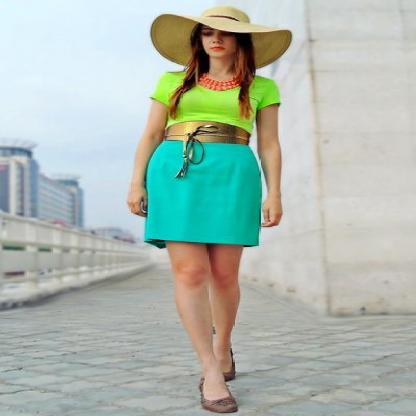hat: (150, 0, 291, 74)
shirt: (149, 71, 278, 133)
shoe: (200, 391, 238, 415)
skirt: (145, 142, 262, 248)
